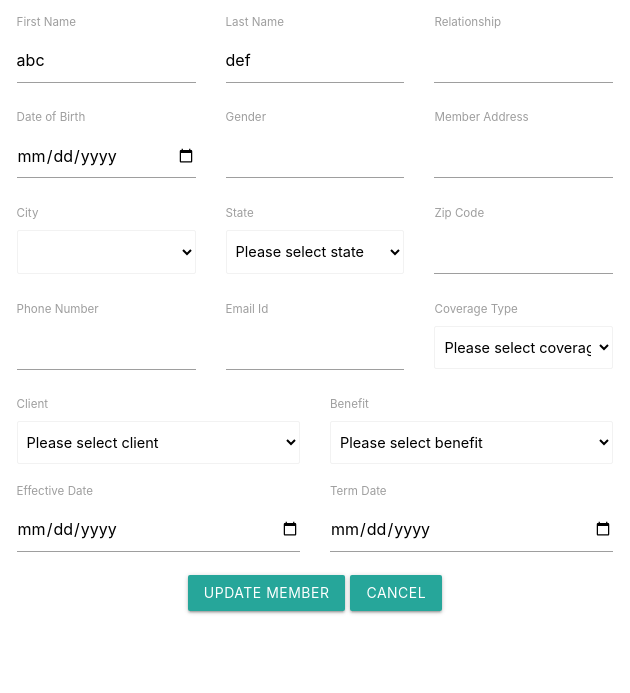
AddUpdateMember › should throw error when phone number is incorrect
Type "123" into the field labelled "Phone Number" at coordinates (106, 348), box [17, 325, 196, 370]
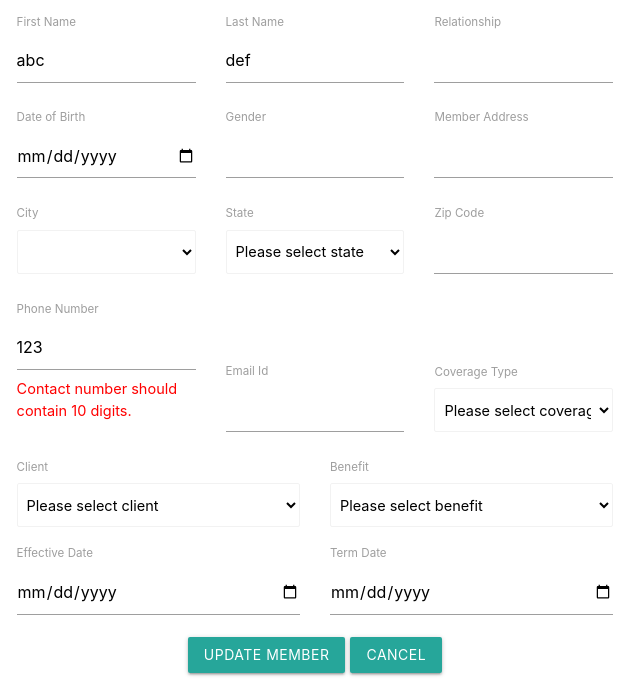
Now the text "Contact number should contain 10 digits." is shown, box [17, 380, 177, 419]
